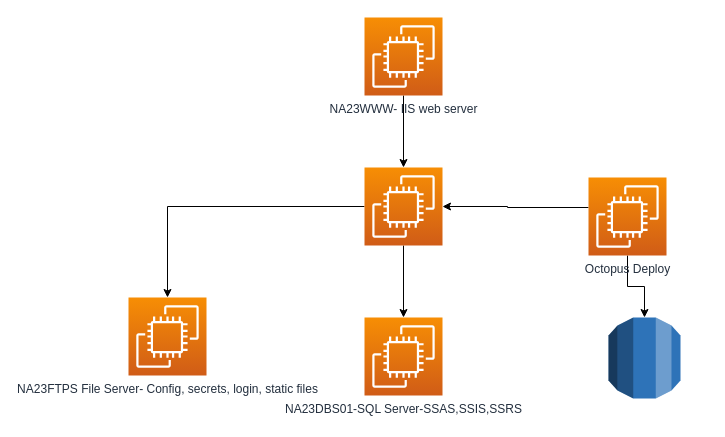
This 725x437 diagram has some shape labels left out. The box of each missing label's shape, as (x1, y1, x2, y2) in pixels:
NA23APP IIS API Server: (364, 166, 442, 246)
RDS01-RDS Sql Server: (608, 316, 680, 398)
